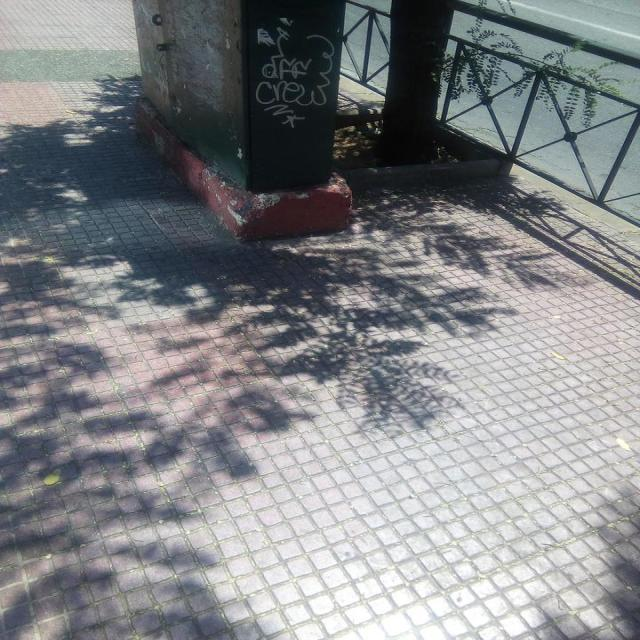nonspitting: (253, 26, 334, 128)
